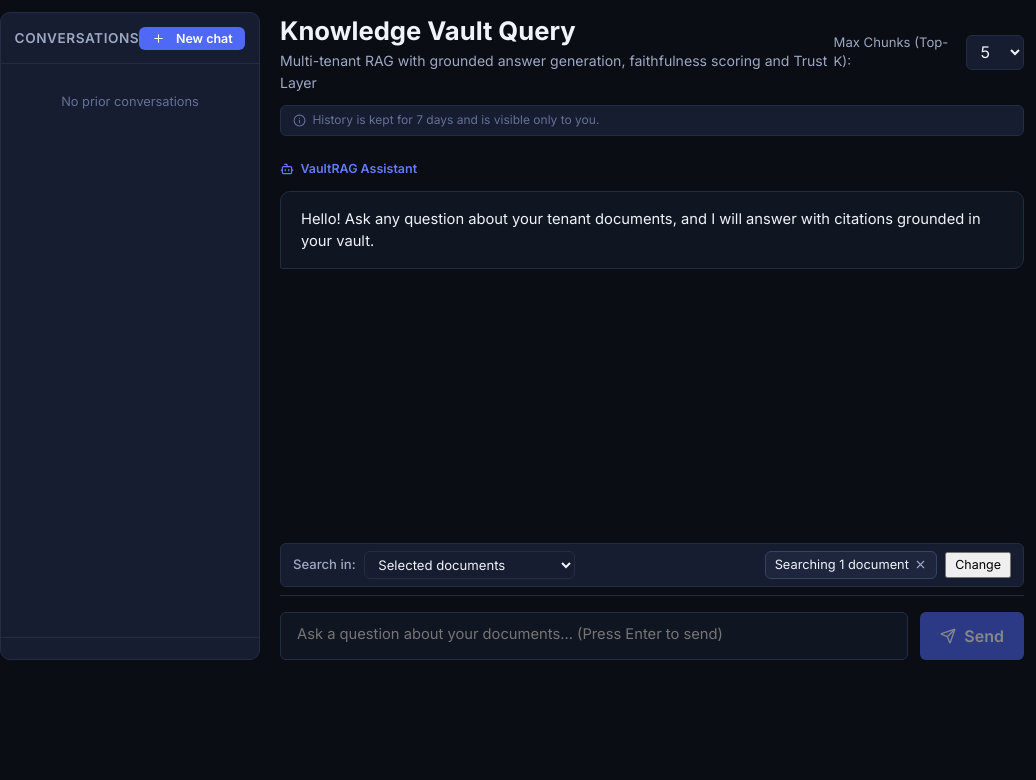
Test case: ChatPage Component › preselects document from navigation state and sends doc_ids on query
Expected: the element with test id "scope-chip" is shown, [765,551,937,579]
Expected: the element with test id "scope-chip" reads "Searching 1 document", [775,557,909,572]
Note: Submit question
Type "What is in the special report?" into the text box with test id "input-chat-question". click: (594, 636)
box: [280,612,908,660]
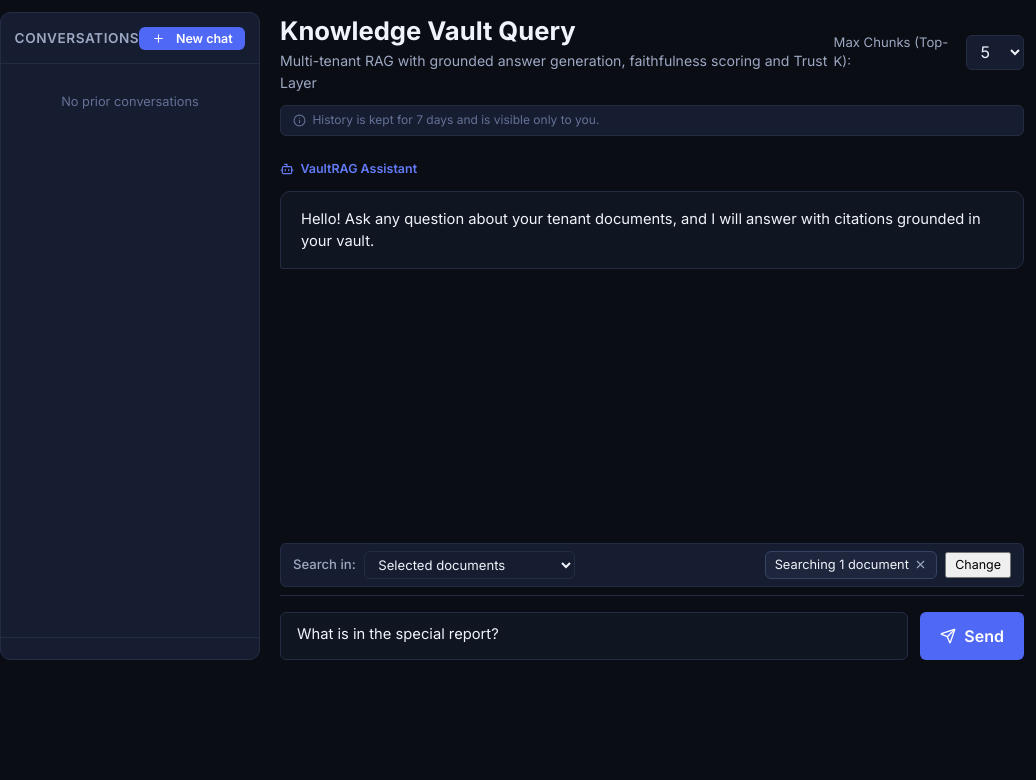
Click the button with test id "btn-chat-send". click: click(972, 636)
box: [920,612,1024,660]
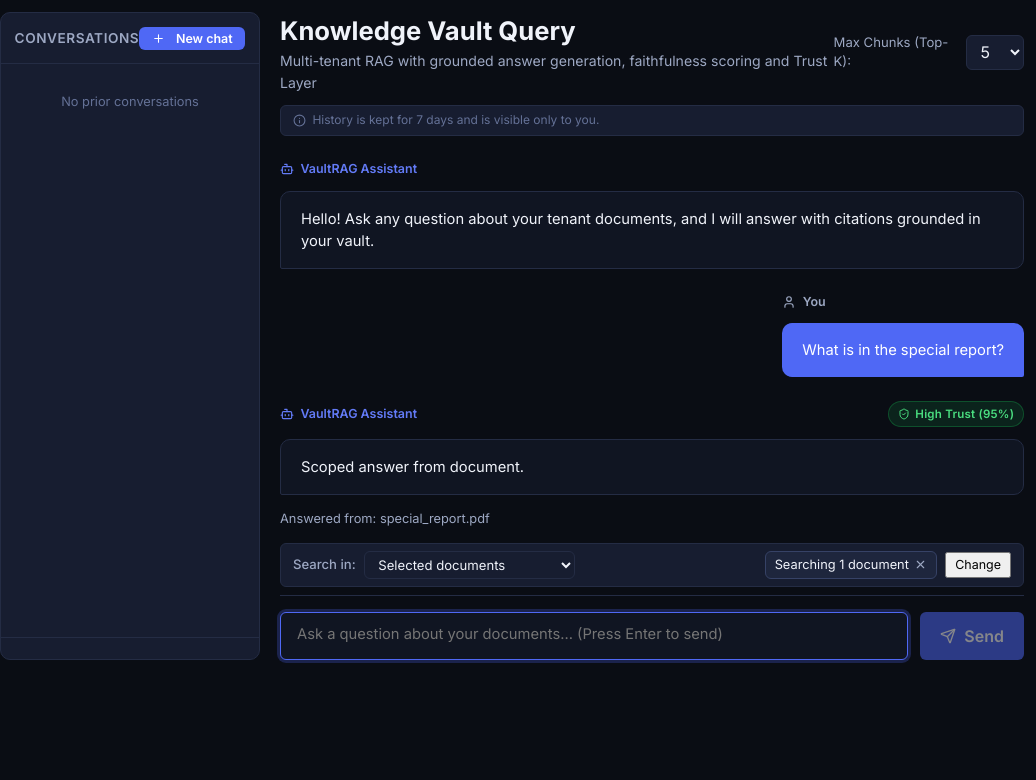
Now the text with test id "message-scope-text" reads "Answered from: special_report.pdf", box [280,511,490,526]
